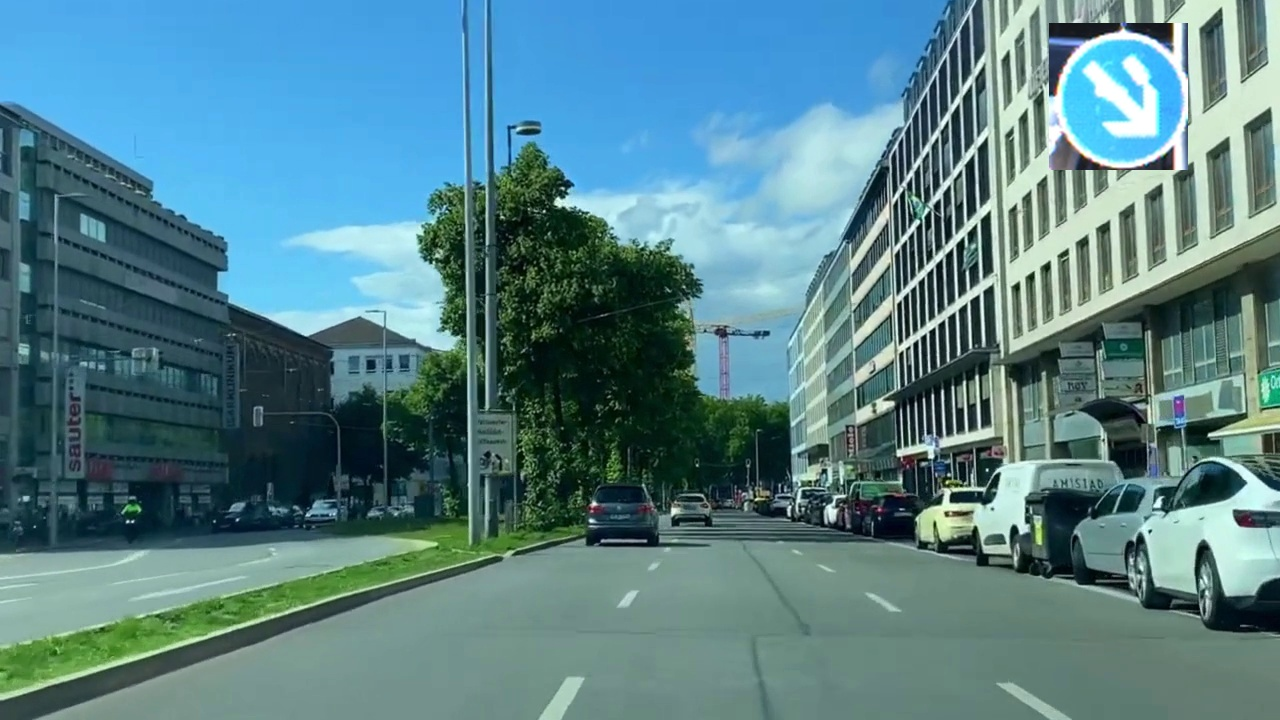Keep right: (1049, 23, 1188, 170)
